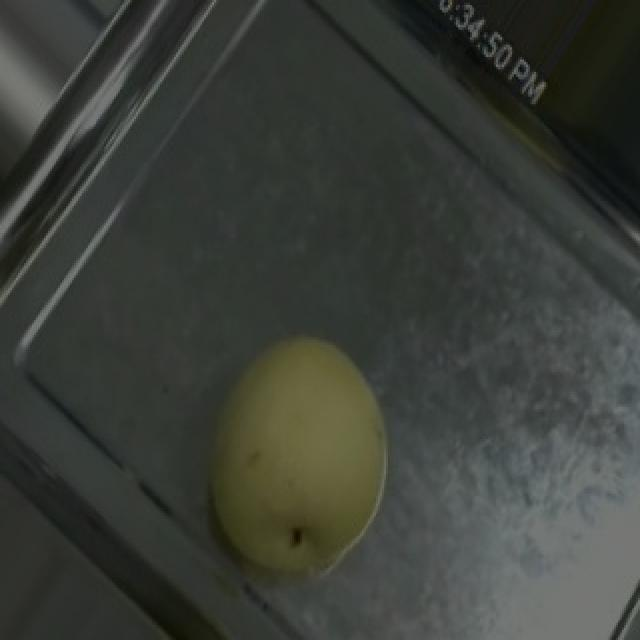Fruit: (160, 300, 434, 615)
